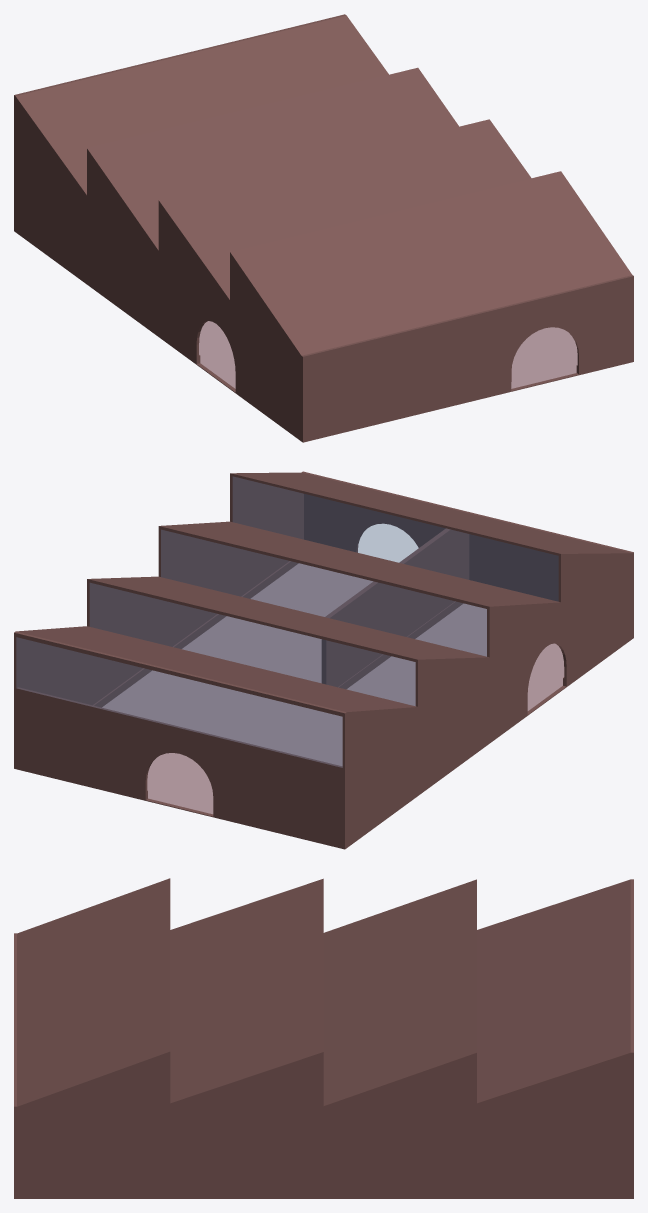
File: FactoryBuilding.fbx
3 views of the same model, one above another, from view 1: azimuth 30°, elevation 25°; view 2: azimuth 150°, elevation 25°; view 3: azimuth 270°, elevation 25° (orthographic). The views are drawn at different scales.
Visible parts, largest first — view 1: FactoryBuilding; view 2: FactoryBuilding; view 3: FactoryBuilding.
Boxes of the visible parts, x1,y1,x2,y2 form: FactoryBuilding: (14, 14, 633, 442); FactoryBuilding: (14, 471, 633, 849); FactoryBuilding: (14, 878, 633, 1198).
Size of the model in its own units: 4597 by 1824 by 6950.
